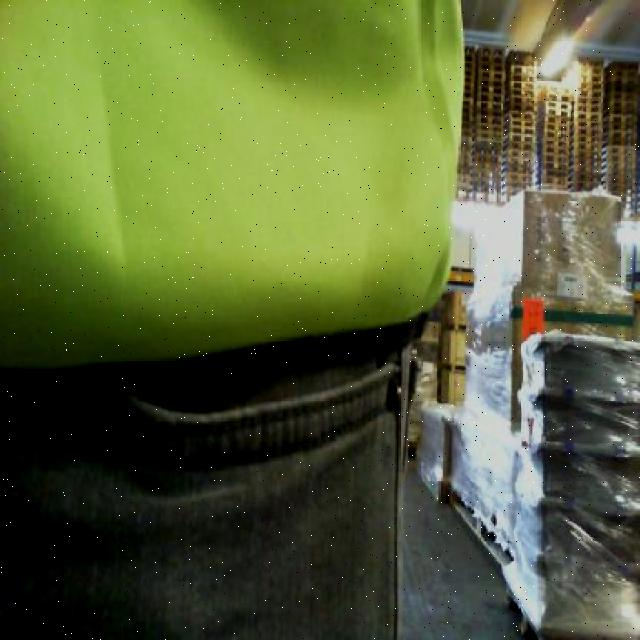pallet: (473, 81, 513, 100), (506, 114, 542, 134), (472, 43, 512, 59), (472, 111, 507, 129), (475, 52, 507, 70), (504, 106, 538, 122), (539, 142, 573, 158), (473, 96, 511, 110), (542, 98, 574, 114), (576, 108, 605, 125), (476, 70, 510, 84), (507, 62, 539, 76), (478, 126, 506, 140), (510, 130, 538, 144), (540, 132, 574, 142)
